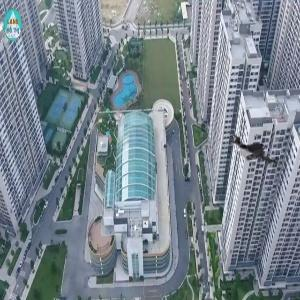drone: (226, 122, 286, 182)
